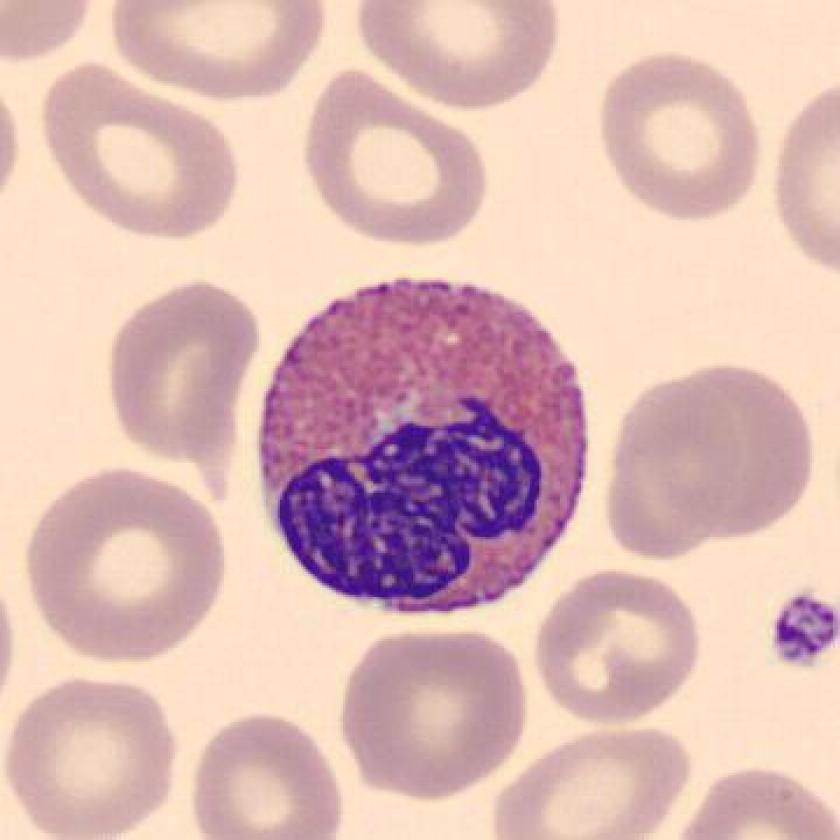eosinophil: (251, 265, 601, 623)
